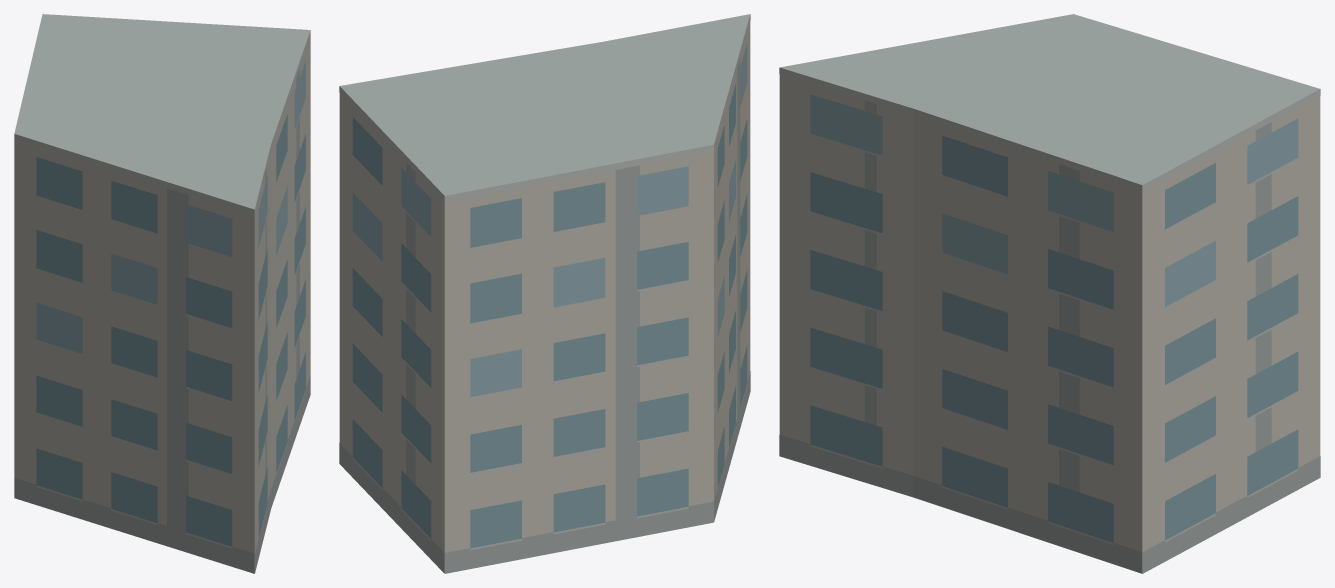
The model's file is survey-upis-32847427.glb.
3 views of the same model, side by side, from view 1: azimuth 30°, elevation 25°; view 2: azimuth 150°, elevation 25°; view 3: azimuth 270°, elevation 25° (orthographic). The views are drawn at different scales.
Parts seen in each view (by area): view 1: survey-upis-32847427.tmp; view 2: survey-upis-32847427.tmp; view 3: survey-upis-32847427.tmp.
Part boxes in pixels (left/top/right/bottom): survey-upis-32847427.tmp: left=14, top=14, right=310, bottom=573; survey-upis-32847427.tmp: left=339, top=14, right=750, bottom=573; survey-upis-32847427.tmp: left=779, top=14, right=1320, bottom=573.
Size of the model in its own units: 13.22 by 14 by 17.66.
